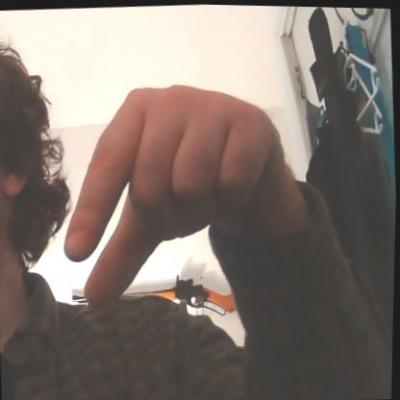hand: (56, 76, 291, 311)
